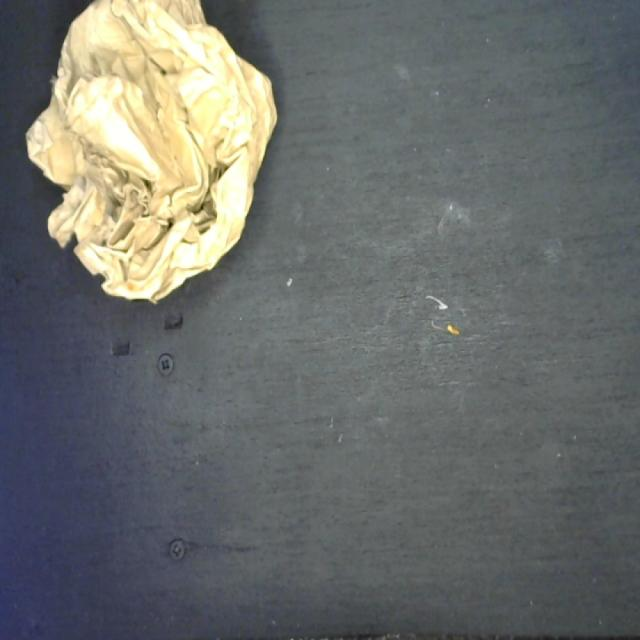biodegradable: (24, 0, 286, 313)
